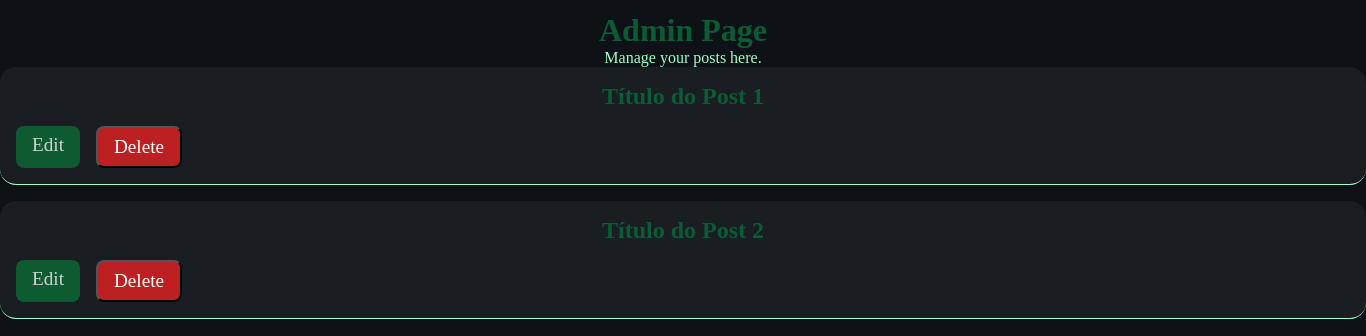
Test case: Admin Component › deve deletar um post e atualizar a tela
Expected: the heading "Título do Post 1" is shown, [602,83,764,109]
Click the 1st button "Delete" at (139, 147), box [96,126,182,168]
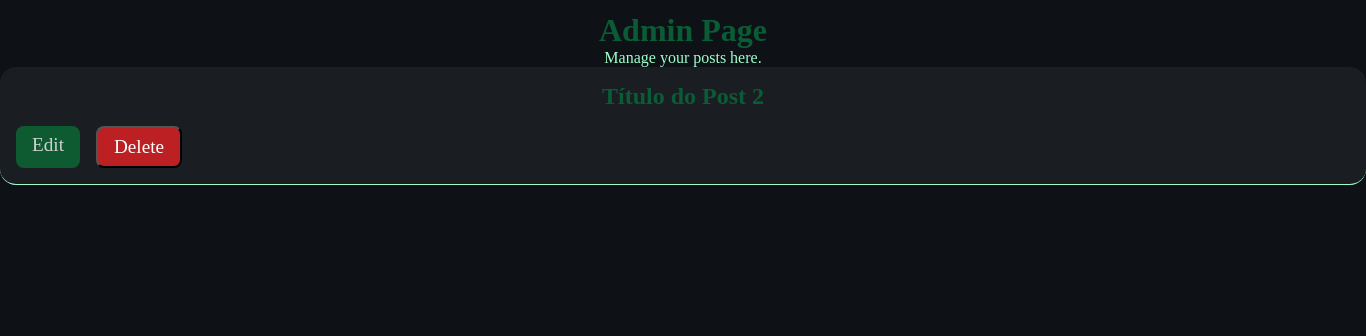
Expected: the heading "Título do Post 2" is shown, [602,83,764,109]
Now the heading "Título do Post 1" is gone
